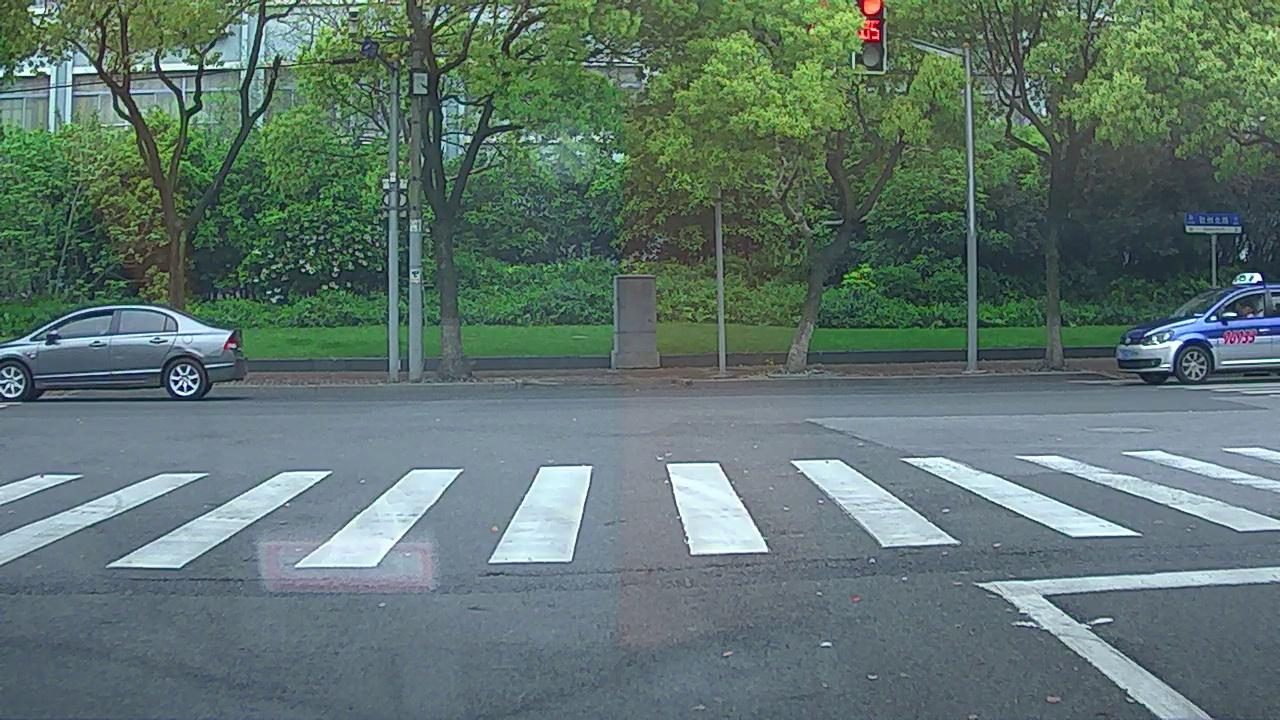traffic_light: (854, 1, 884, 73)
